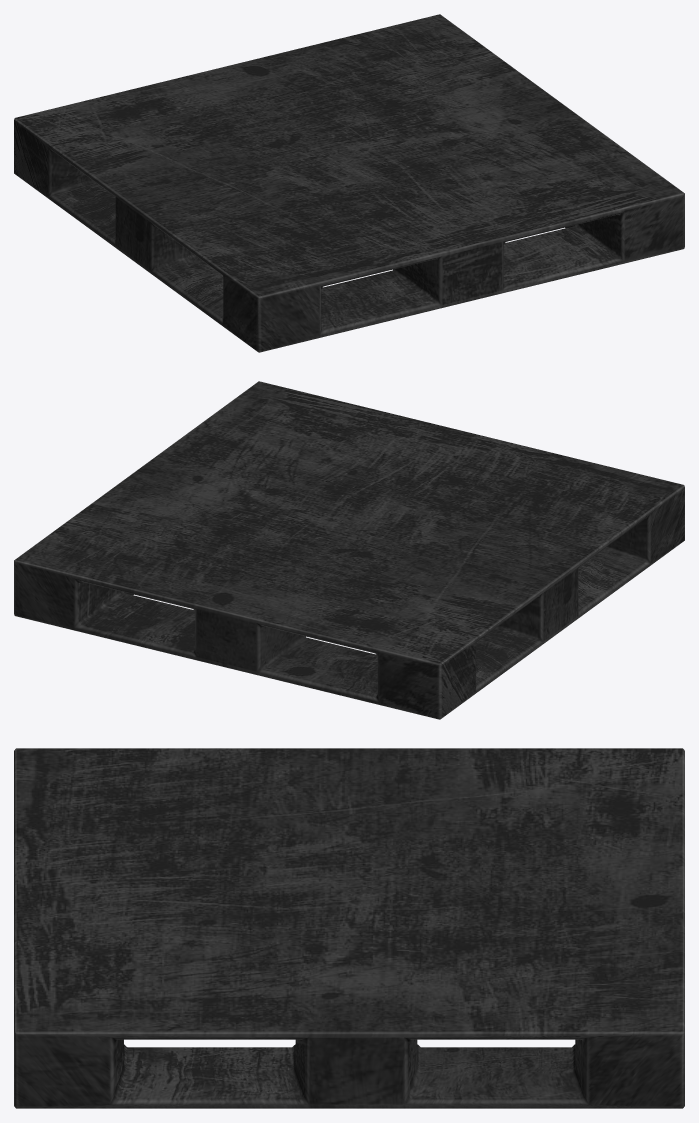
Rendered from Pallet.glb.
The picture shows the model from 3 angles, top to bottom: view 1: azimuth 30°, elevation 25°; view 2: azimuth 150°, elevation 25°; view 3: azimuth 270°, elevation 25°; orthographic projection. The views are drawn at different scales.
Visible parts, largest first — view 1: Pallet; view 2: Pallet; view 3: Pallet.
Boxes of the visible parts, x1=… form: Pallet: x1=14, y1=14, x2=684, y2=352; Pallet: x1=14, y1=381, x2=684, y2=719; Pallet: x1=14, y1=748, x2=684, y2=1108.
Bounding box in the file's own units: 1.07 × 0.1337 × 1.06.
1 material, 1 textured.
